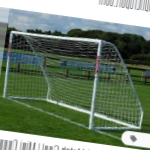goals: (3, 30, 145, 130)
